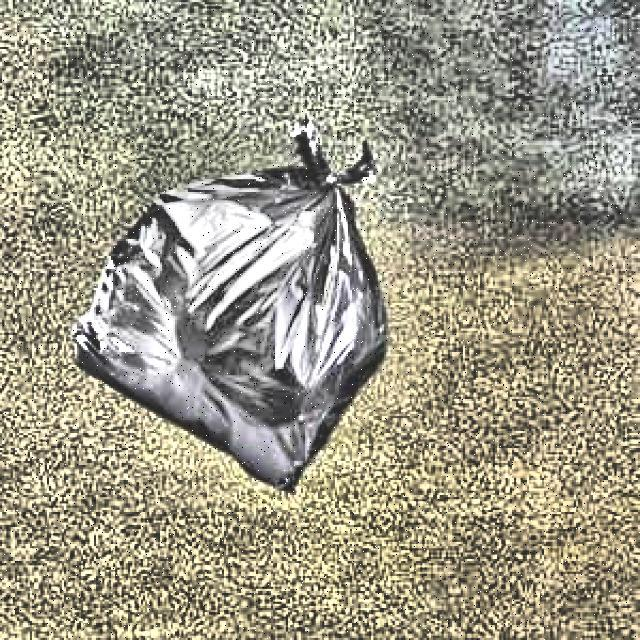Trashbag: (116, 159, 368, 479)
